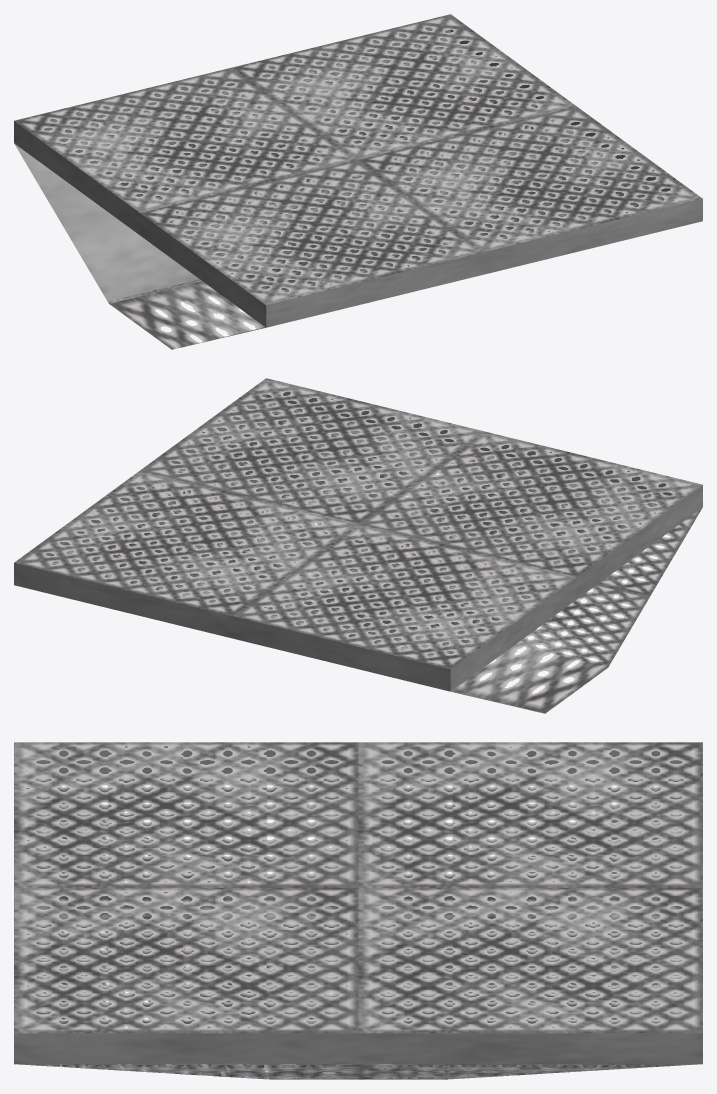
Rendered from Catwalk_03.fbx.
3 renders of one model, top to bottom at view 1: azimuth 30°, elevation 25°; view 2: azimuth 150°, elevation 25°; view 3: azimuth 270°, elevation 25°, orthographic. The views are drawn at different scales.
Visible parts, largest first — view 1: Top, Bottom; view 2: Top, Bottom; view 3: Top, Bottom.
Boxes of the visible parts, x1,y1,x2,y2 form: Top: (14, 14, 702, 327); Bottom: (14, 109, 533, 349); Top: (14, 378, 702, 691); Bottom: (183, 463, 702, 713); Top: (14, 742, 702, 1064); Bottom: (19, 802, 697, 1079).
Bounding box in the file's own units: 8.01 × 1.99 × 8.01.
